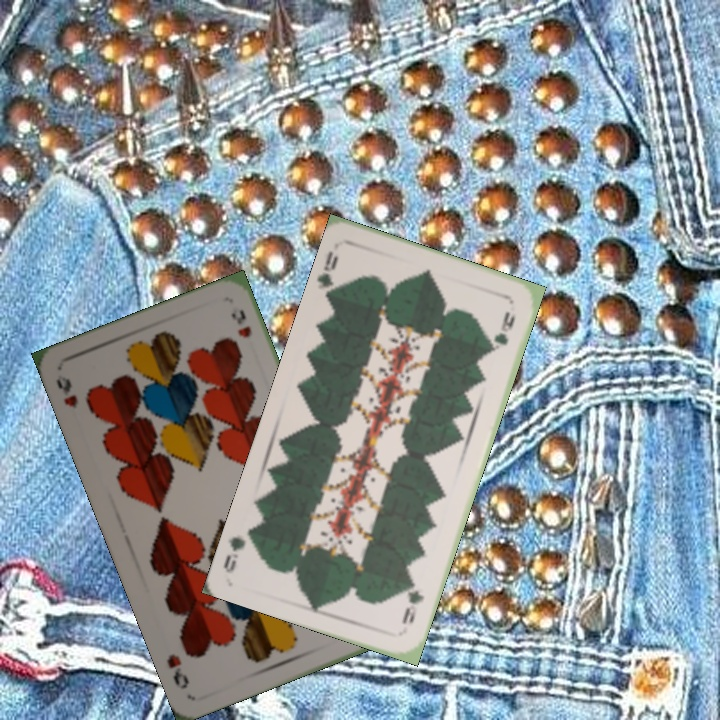G9: (313, 247, 342, 302), (398, 575, 427, 627)
H9: (51, 371, 80, 411)
